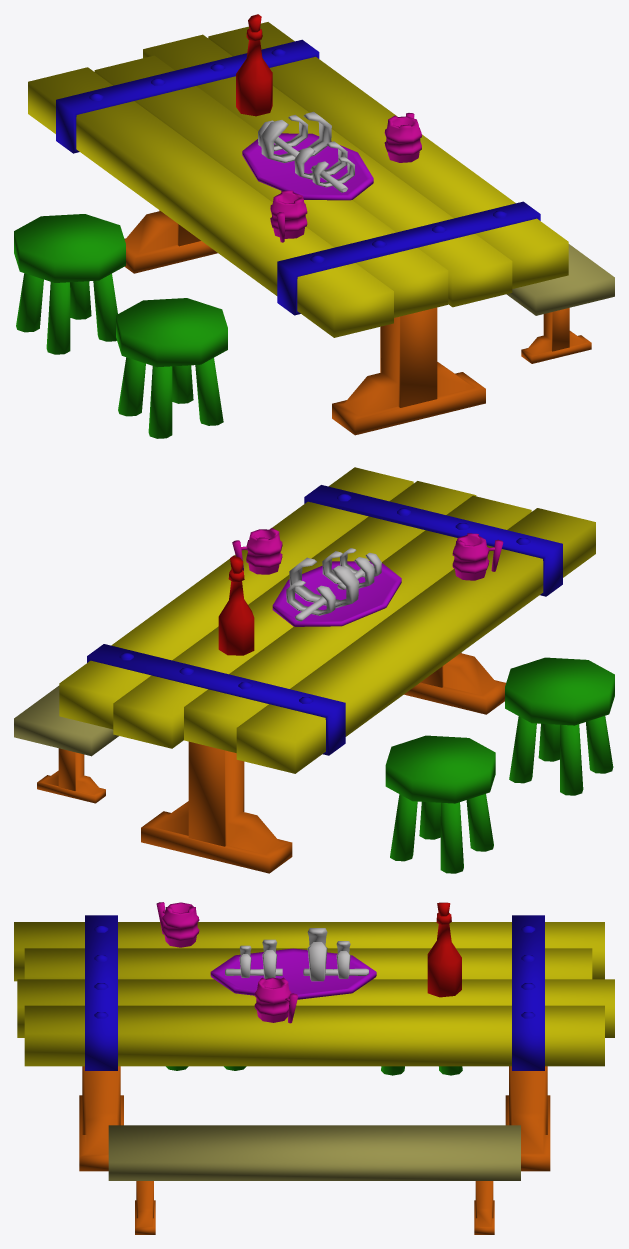
The model's file is SM_DarkgrimTable.fbx.
3 views of the same model, one above another, from view 1: azimuth 30°, elevation 25°; view 2: azimuth 150°, elevation 25°; view 3: azimuth 270°, elevation 25° (orthographic). The views are drawn at different scales.
Visible parts, largest first — view 1: table_low; view 2: table_low; view 3: table_low.
Part boxes in pixels (x1,y1,x2,y2): table_low: (14,14,614,438); table_low: (14,467,614,873); table_low: (14,902,614,1234).
Bounding box in the file's own units: 275 × 154 × 334.
